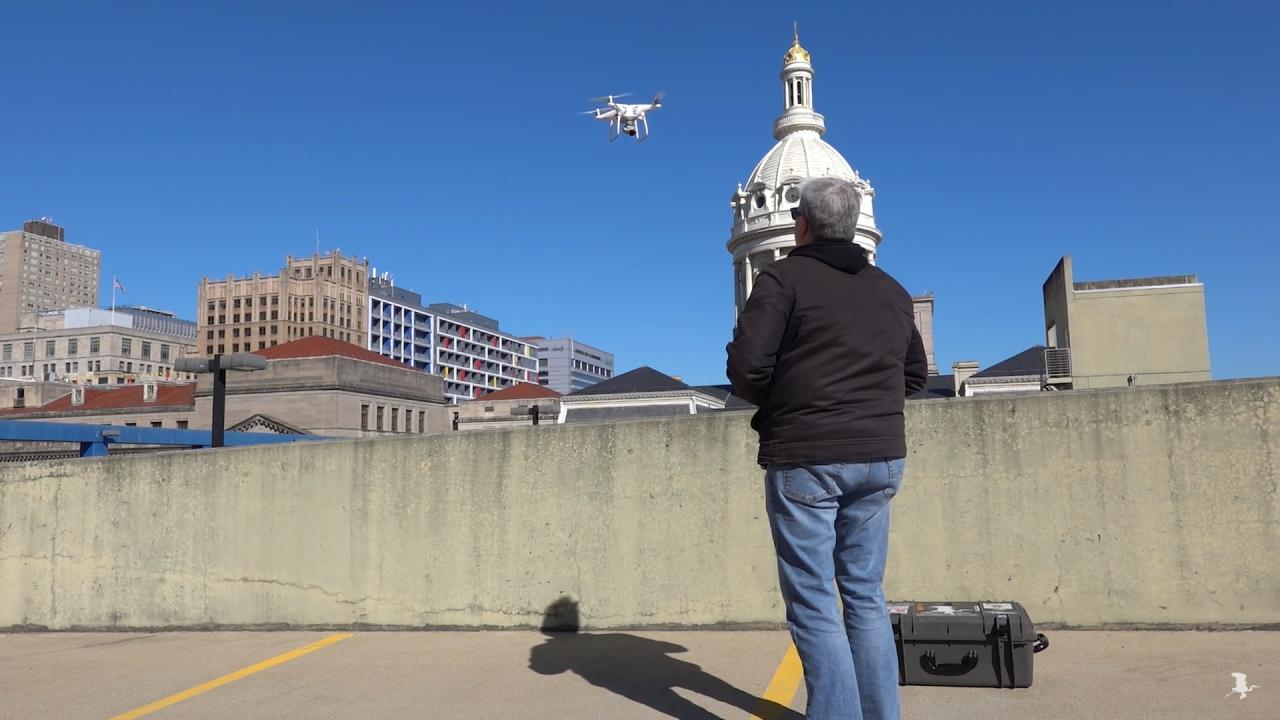Drone: (572, 83, 679, 151)
